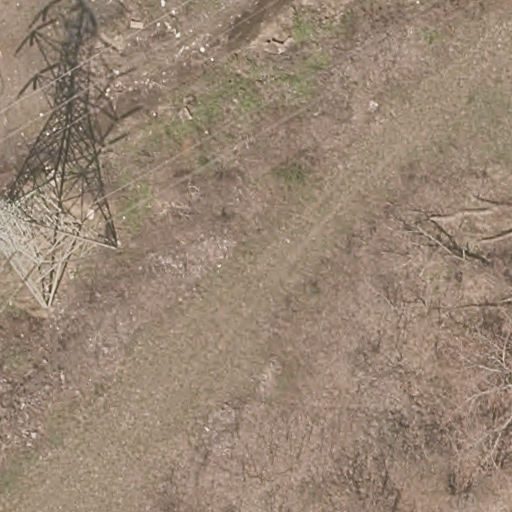TT: (3, 107, 122, 314)
